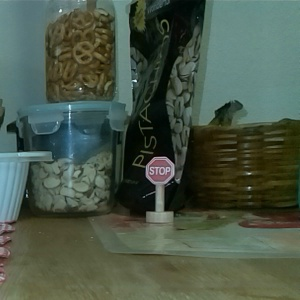stop sign: (143, 153, 177, 225)
